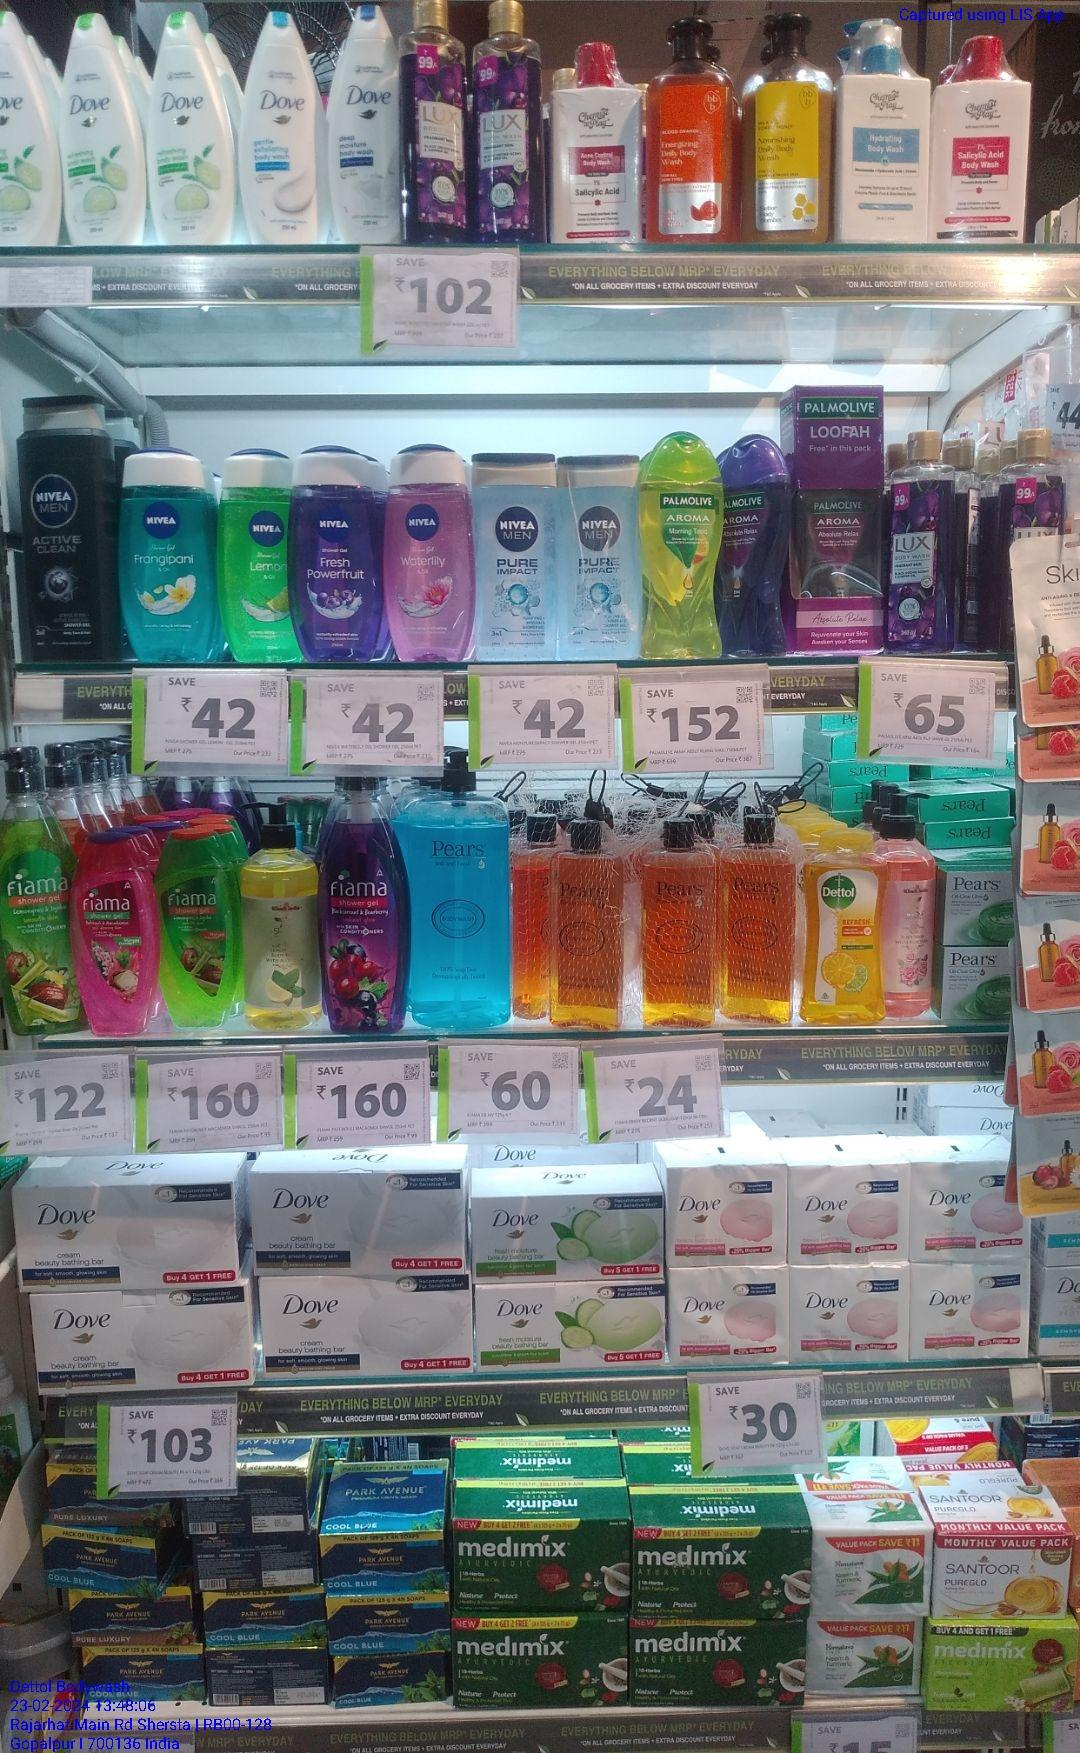Dettol_Bodywash_Refresh: (796, 825, 887, 1029)
Dove_Deep_Moisture_Body_Wash_250ML: (330, 0, 400, 244)
Dove_Gentle_Exfoliating_Body_Wash_250ML: (243, 9, 324, 247)
Dove_Refreshing_Body_Wash_250ML: (150, 10, 234, 242), (64, 15, 141, 247), (0, 8, 56, 247)
Fiama_Shower_Gel_Lemongrass_and_Jojoba_250ML: (161, 824, 232, 1029)
Fiama_Shower_Gel_Patchouli_and_Macadamia_250ML: (75, 834, 154, 1039)
Lux_Black_Orchid_Scent_and_Juniper_Oil_Body_Wash_245ML: (469, 0, 543, 244), (400, 0, 468, 247), (882, 427, 956, 651)
Nivea_Shower_Gel_Frangipani_and_Oil_250ML: (114, 450, 215, 674)
Nivea_Shower_Gel_Fresh_Powerfruit_250ML: (383, 446, 473, 671), (297, 442, 374, 662)
Nivea_Shower_Gel_Lemon_and_Oil_250ML: (219, 452, 294, 670)
Palmolive_Aroma_Morning_Tonic_Shower_Gel_250ML: (647, 436, 722, 659)
Palmolive_Aroma_Relax_250ML: (722, 436, 792, 659)
